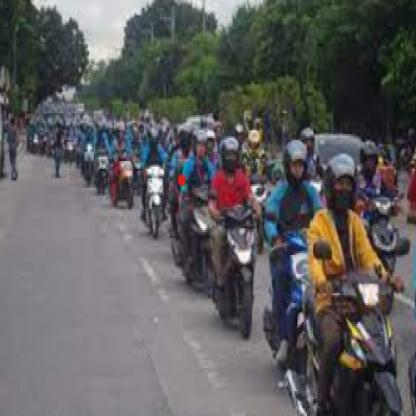helmet: (323, 153, 359, 211), (282, 139, 309, 191), (220, 135, 240, 173), (359, 141, 379, 177), (246, 129, 262, 156), (193, 130, 208, 158)
